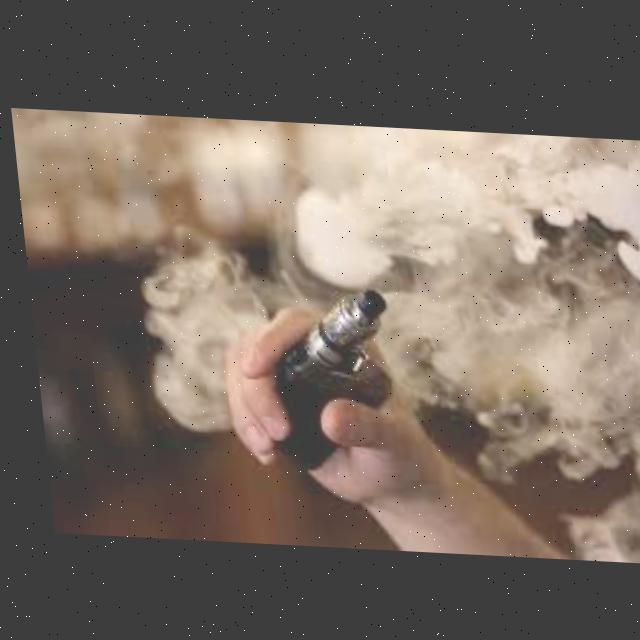vape: (250, 278, 395, 472)
